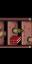Obstacle: (0, 16, 32, 48)
